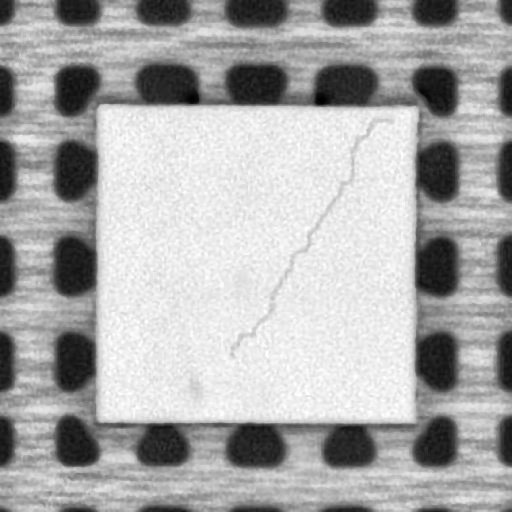DIE_CRACK: (232, 112, 388, 362)
